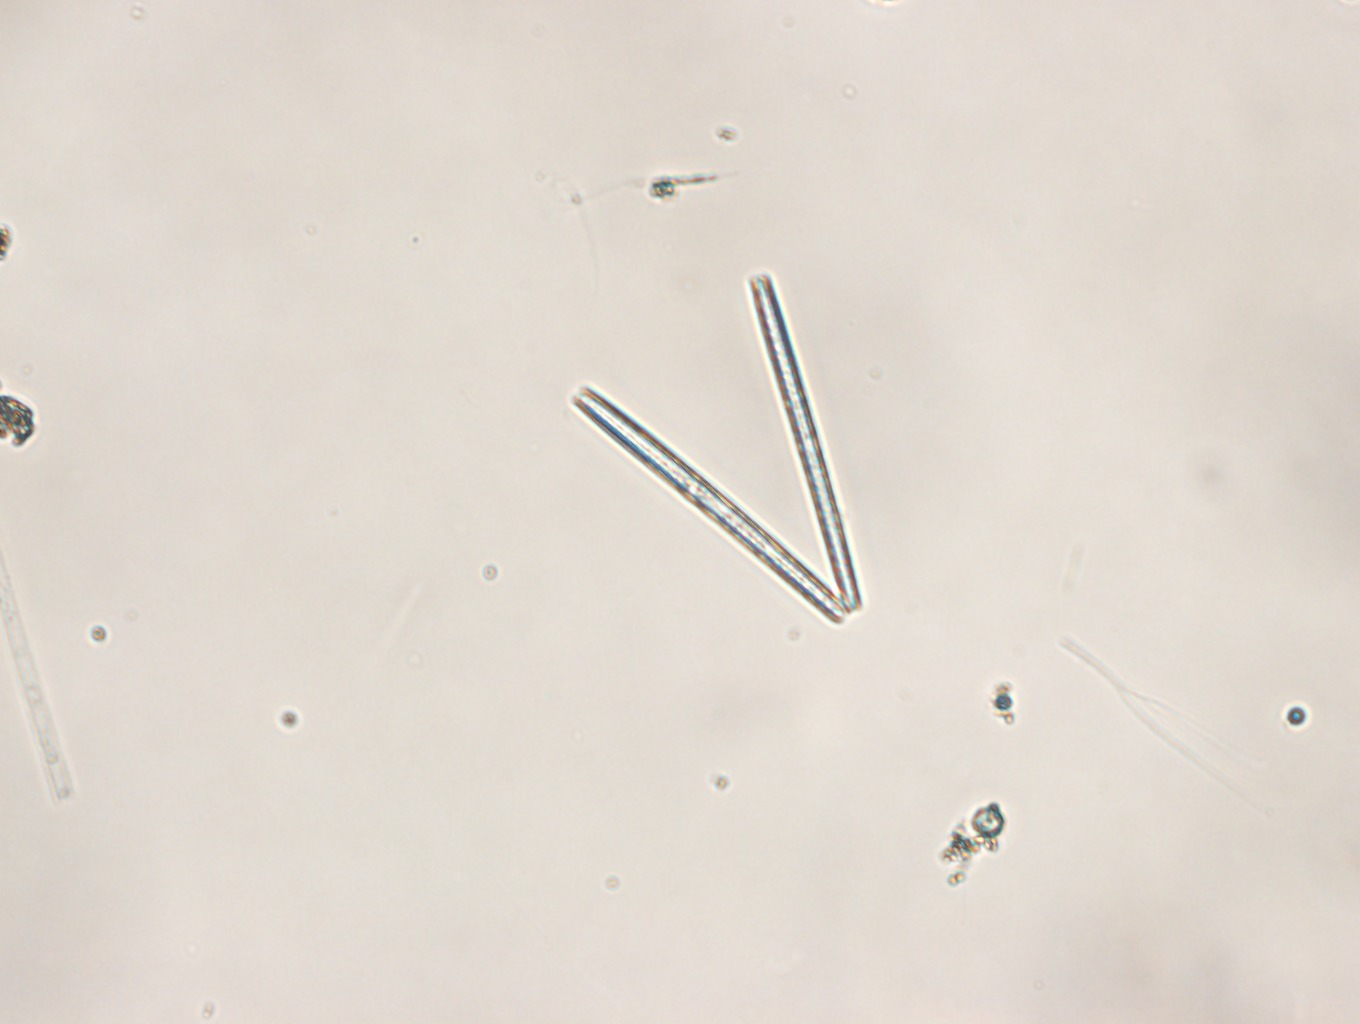thalassionema nitzschioides: (569, 274, 864, 627)
